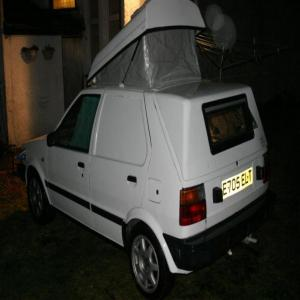Vehicle-registration-plate: (221, 167, 255, 201)
